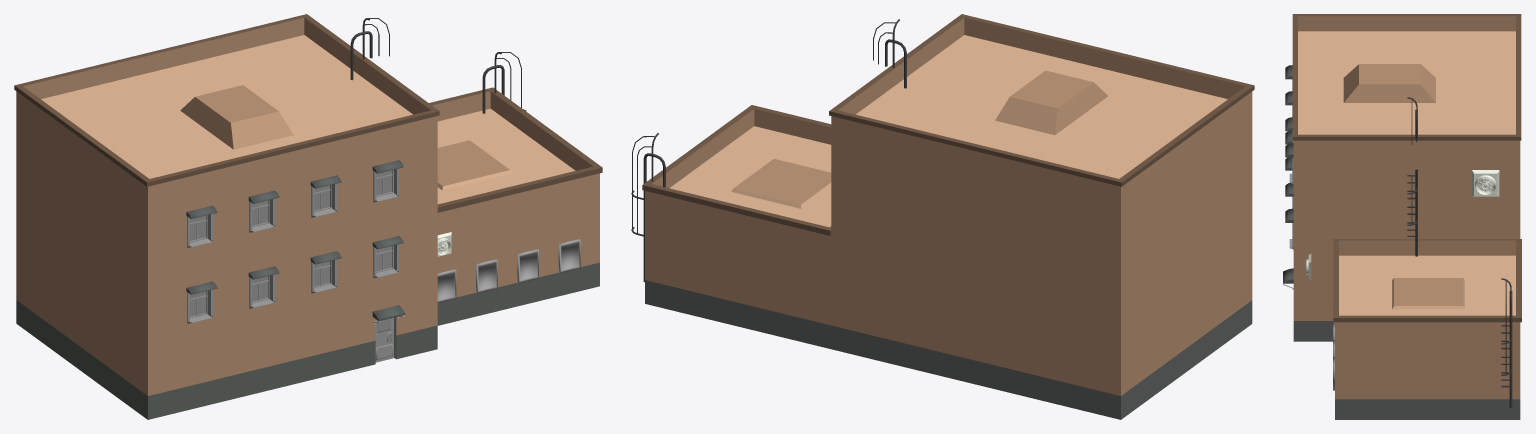
The model's file is building.glb.
The picture shows the model from 3 angles, left to right: view 1: azimuth 30°, elevation 25°; view 2: azimuth 150°, elevation 25°; view 3: azimuth 270°, elevation 25°; orthographic projection. The views are drawn at different scales.
Parts seen in each view (by area): view 1: Plane, Plane.001, Plane.008, Plane.003, Plane.007, Plane.002, Plane.004, Plane.005, Plane.006, Plane.013, Plane.012, Plane.010 (+4 smaller); view 2: Plane; view 3: Plane, Circle.007, Plane.016, Plane.017, Plane.019, Plane.018, Plane.014.
Part boxes in pixels (x1=…): Plane: x1=14, y1=14, x2=602, y2=419; Plane.001: x1=372, y1=236, x2=403, y2=278; Plane.008: x1=372, y1=160, x2=403, y2=202; Plane.003: x1=248, y1=266, x2=279, y2=308; Plane.007: x1=310, y1=175, x2=341, y2=217; Plane.002: x1=310, y1=251, x2=341, y2=293; Plane.004: x1=186, y1=281, x2=217, y2=323; Plane.005: x1=186, y1=205, x2=217, y2=247; Plane.006: x1=248, y1=190, x2=279, y2=232; Plane.013: x1=375, y1=317, x2=396, y2=362; Plane.012: x1=558, y1=239, x2=580, y2=273; Plane.010: x1=476, y1=259, x2=497, y2=293; Plane: x1=642, y1=14, x2=1254, y2=419; Plane: x1=1283, y1=14, x2=1521, y2=419; Circle.007: x1=1472, y1=170, x2=1499, y2=196; Plane.016: x1=1501, y1=352, x2=1512, y2=407; Plane.017: x1=1407, y1=201, x2=1417, y2=256; Plane.019: x1=1501, y1=320, x2=1512, y2=357; Plane.018: x1=1501, y1=278, x2=1512, y2=326; Plane.014: x1=1407, y1=169, x2=1417, y2=207.
Size of the model in its own units: 24.17 by 13.06 by 11.6.
